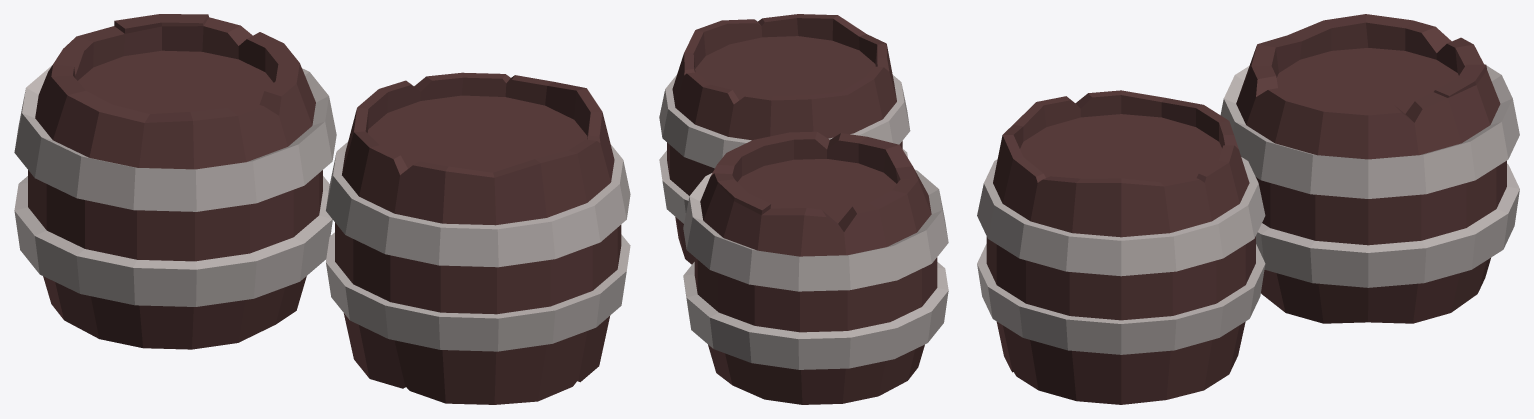
Rendered from barrel.fbx.
The picture shows the model from 3 angles, left to right: view 1: azimuth 30°, elevation 25°; view 2: azimuth 150°, elevation 25°; view 3: azimuth 270°, elevation 25°; orthographic projection. The views are drawn at different scales.
Visible parts, largest first — view 1: Cylinder, Cylinder.001, Cylinder.002; view 2: Cylinder.001, Cylinder, Cylinder.002; view 3: Cylinder, Cylinder.001, Cylinder.002.
Boxes of the visible parts, x1=… form: Cylinder: x1=326, y1=72, x2=630, y2=404; Cylinder.001: x1=28, y1=14, x2=322, y2=349; Cylinder.002: x1=14, y1=65, x2=336, y2=306; Cylinder.001: x1=694, y1=131, x2=937, y2=404; Cylinder: x1=659, y1=14, x2=910, y2=264; Cylinder.002: x1=683, y1=169, x2=948, y2=369; Cylinder: x1=977, y1=90, x2=1265, y2=404; Cylinder.001: x1=1236, y1=14, x2=1506, y2=323; Cylinder.002: x1=1220, y1=64, x2=1519, y2=287.
Size of the model in its own units: 327 by 169 by 371.
